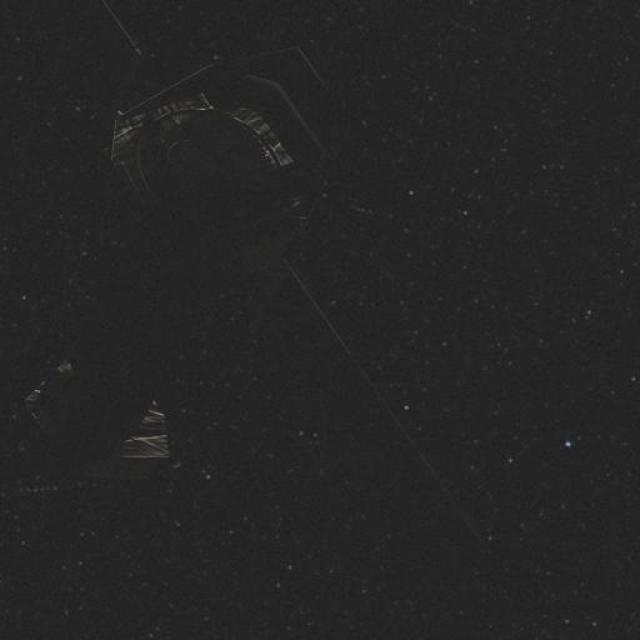xmm_newton: (3, 79, 363, 513)
